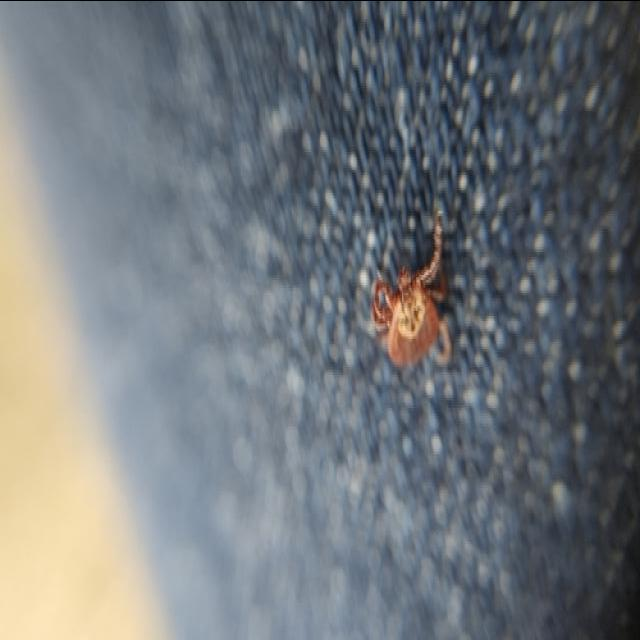Dermacentor Reticulatus-F: (372, 225, 453, 369)
